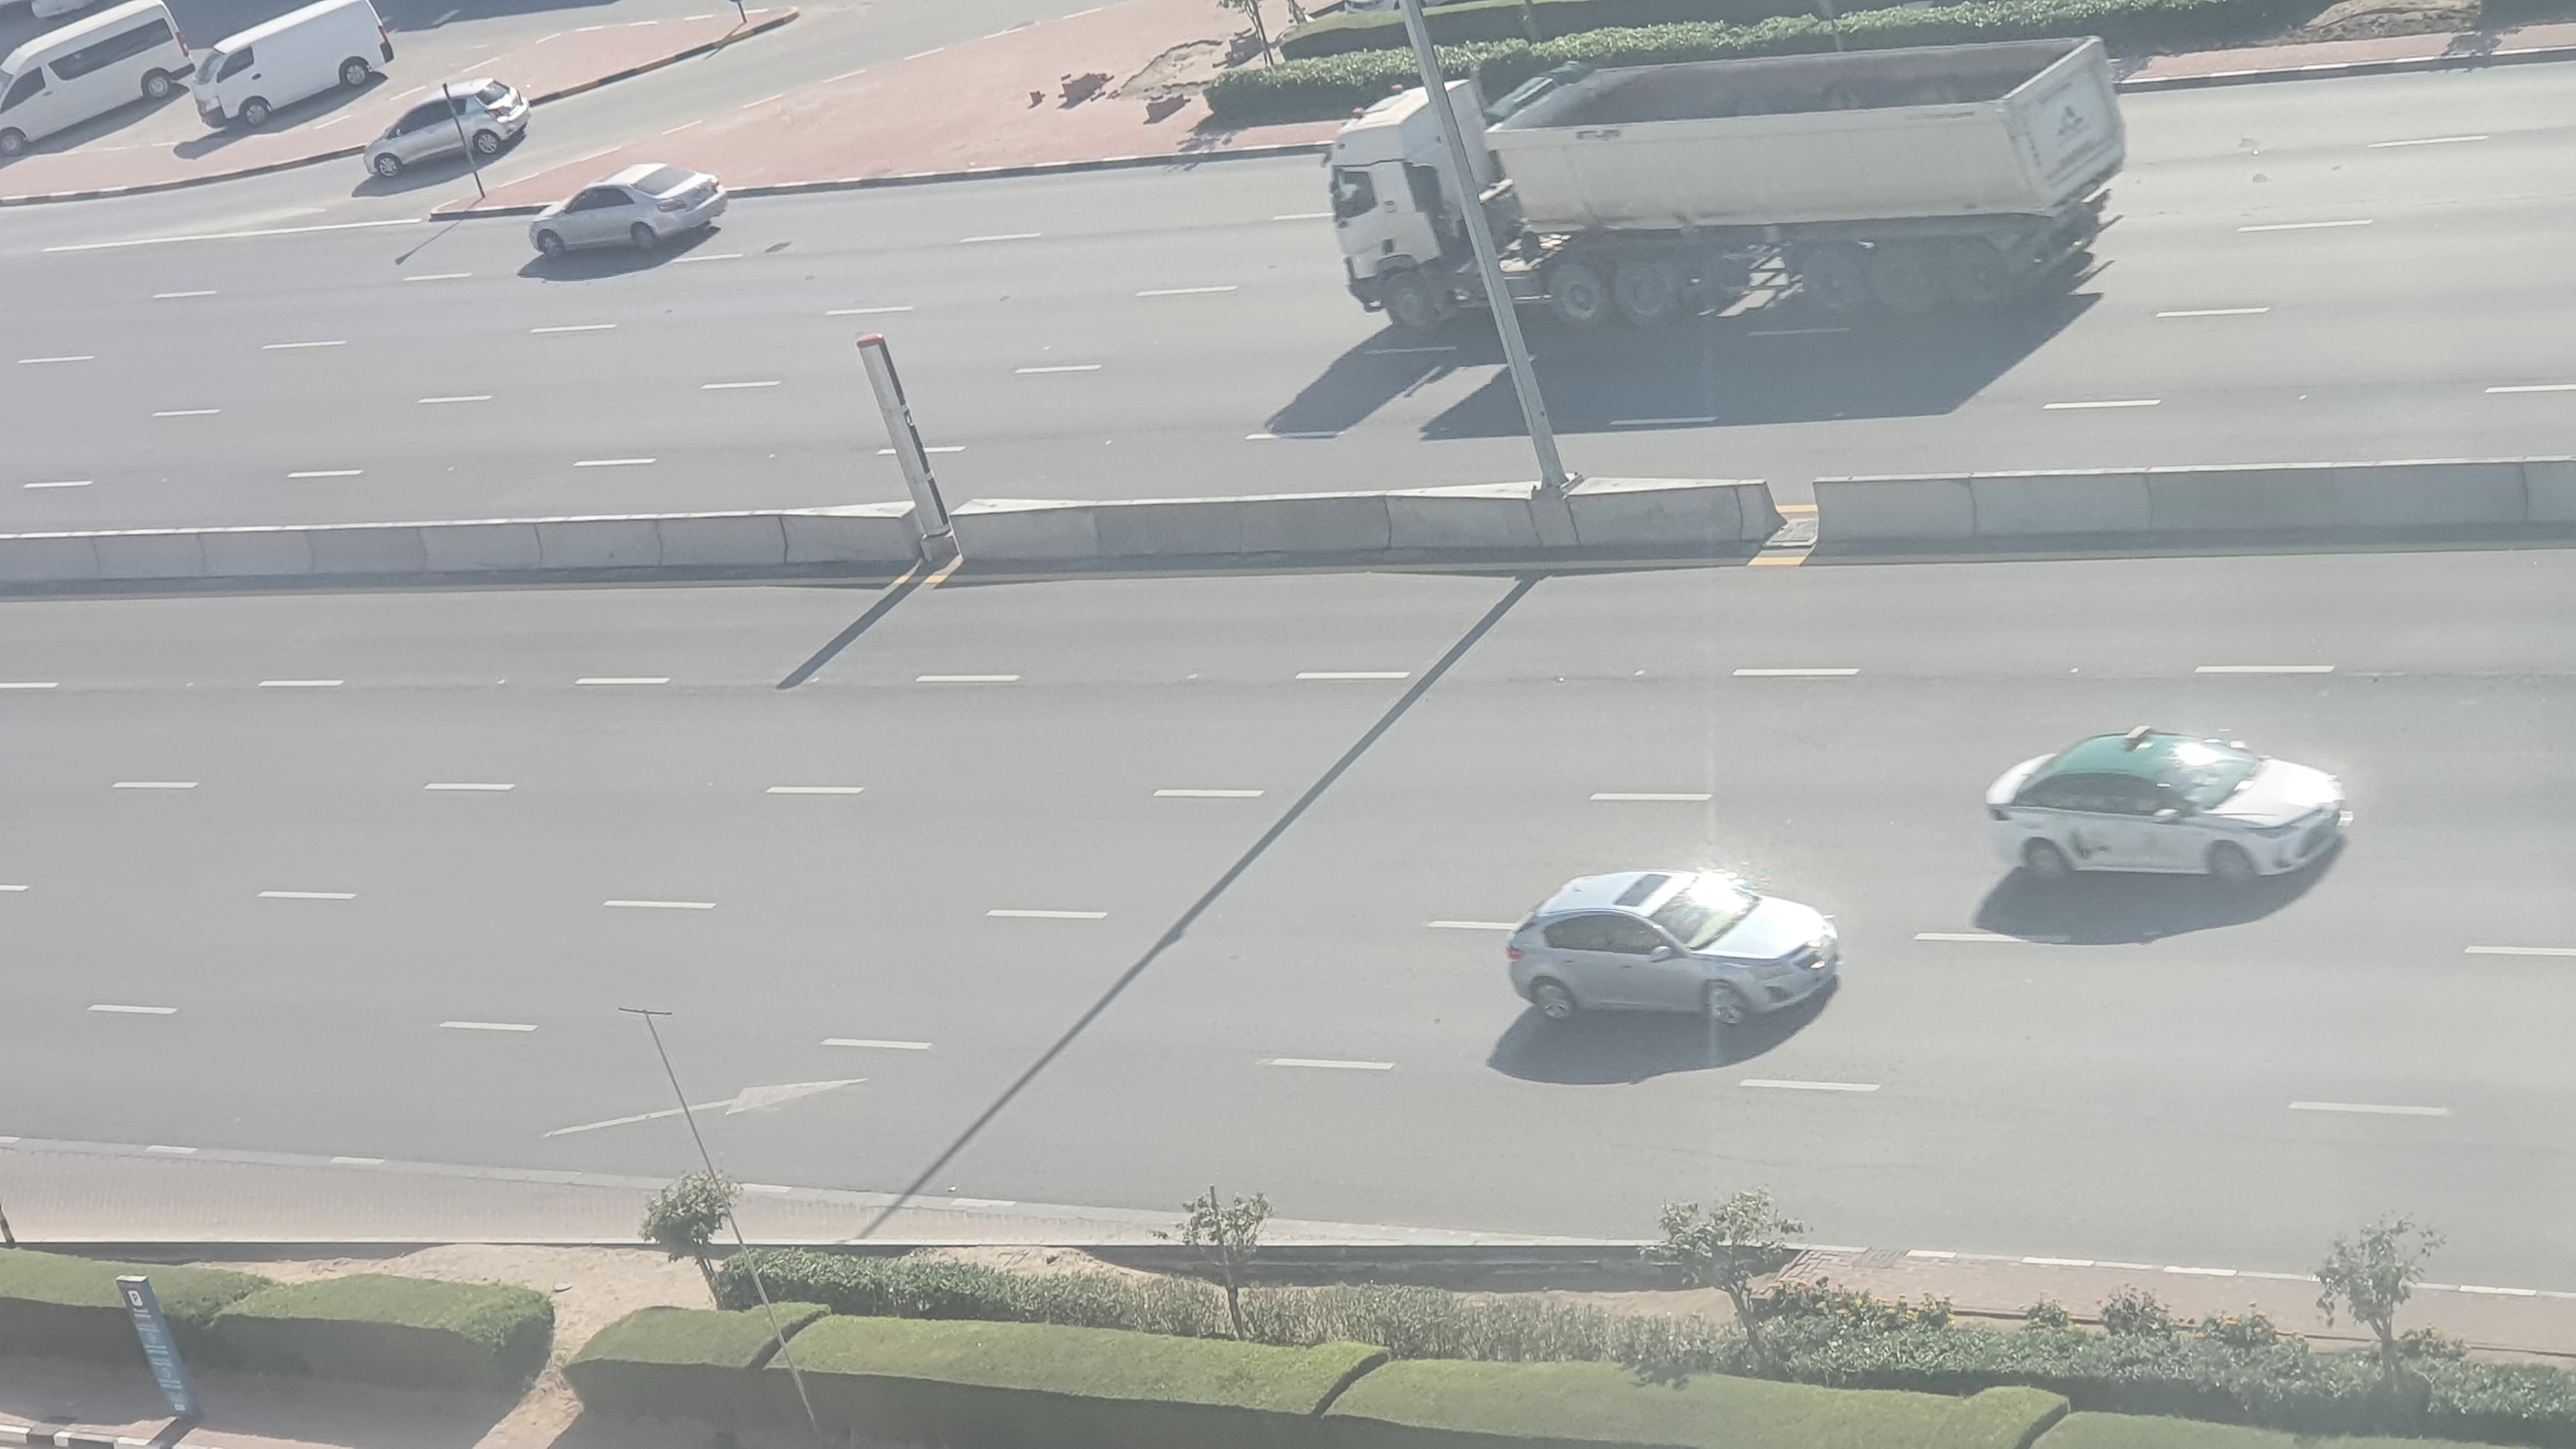NotSunroof: (1982, 722, 2351, 890)
Sunroof: (1511, 862, 1844, 1037)
